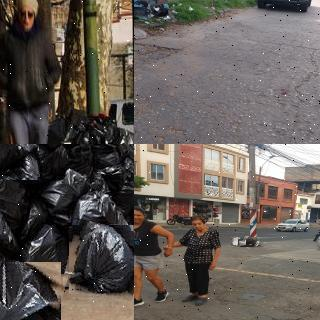Garbage: (65, 221, 134, 297), (0, 256, 64, 320), (22, 226, 77, 288), (39, 166, 89, 225), (70, 186, 118, 240), (0, 193, 19, 271), (0, 144, 39, 181), (93, 144, 125, 182), (89, 144, 134, 161), (150, 4, 169, 17), (134, 5, 149, 18), (244, 236, 257, 246), (134, 0, 147, 7), (231, 237, 241, 246), (238, 240, 246, 246)
